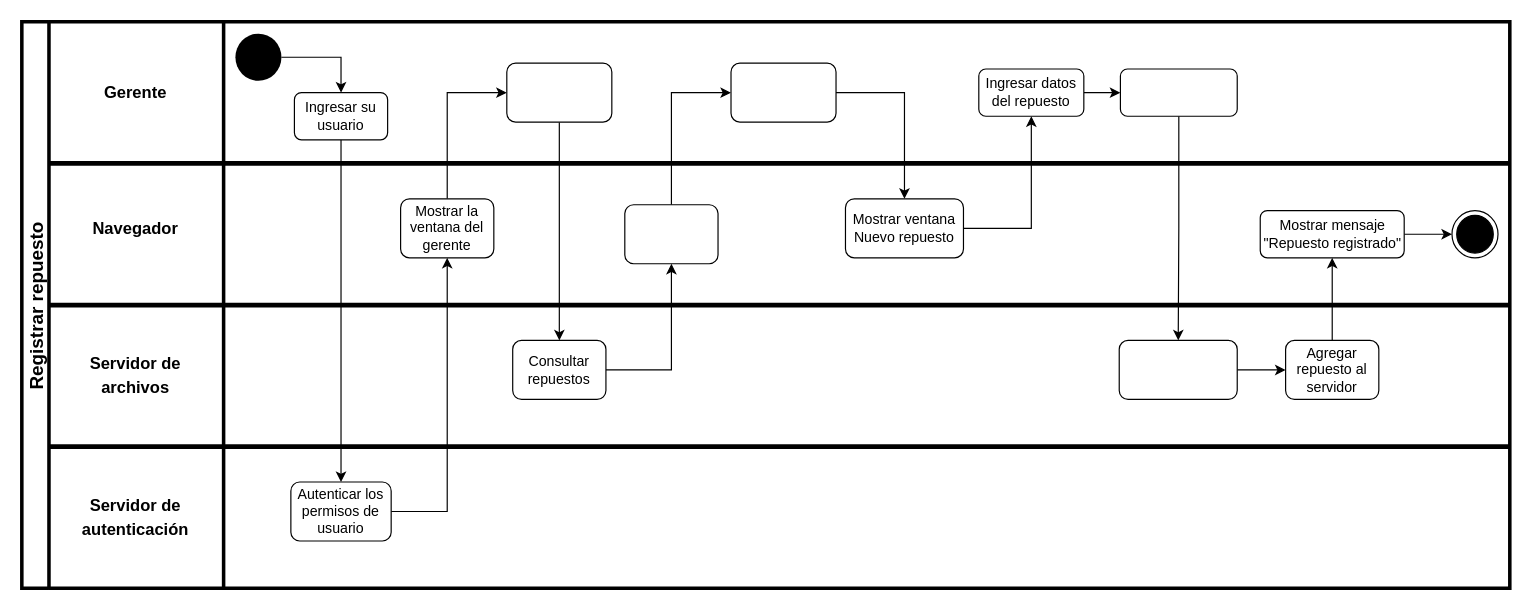
The diagram is 1534 pixels wide and 611 high, and some of its shapes have lost their labels. Here are the shapes that lost their labels. From the top down, the centre of each, then its label:
(559,92): Seleccionar la ventana de repuestos
(783,92): Presionar botón "Nuevo"
(1178,92): Presionar botón "Guardar"
(671,234): Mostrar lista de repuestos
(1177,369): Validar datos del repuesto
